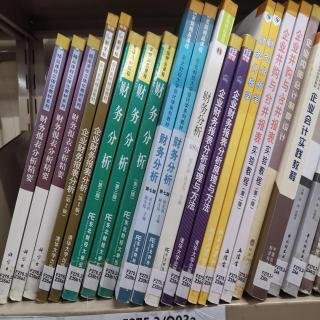book-spine: (207, 2, 301, 306), (145, 0, 238, 307), (221, 1, 314, 303), (187, 0, 277, 305), (116, 0, 205, 304), (197, 3, 286, 306), (129, 2, 217, 305), (230, 5, 320, 300), (32, 11, 119, 304), (48, 11, 131, 304), (58, 29, 146, 305), (157, 33, 245, 307), (173, 34, 259, 307), (96, 30, 181, 299), (19, 35, 102, 302), (79, 31, 161, 301), (5, 37, 87, 305), (245, 30, 320, 300), (0, 33, 72, 306), (263, 115, 320, 297)
